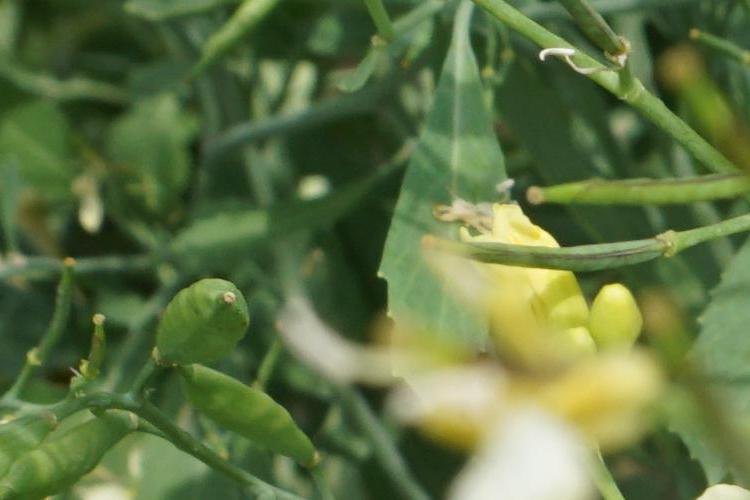bud: (590, 269, 656, 371)
pod: (164, 358, 353, 474), (400, 212, 743, 269), (491, 153, 719, 216), (144, 264, 259, 371)
